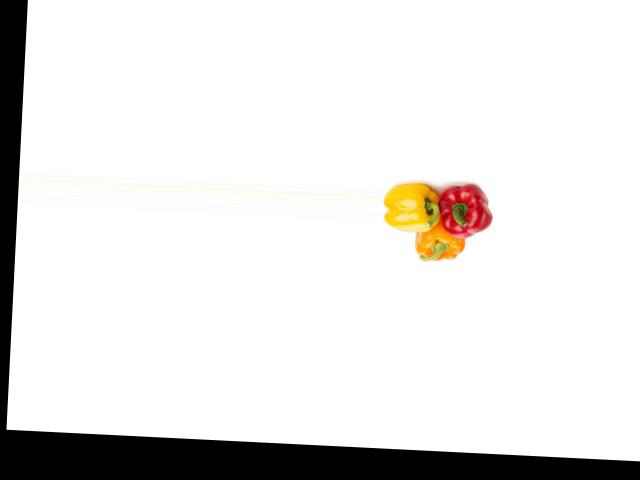bell_pepper: (382, 177, 438, 234)
